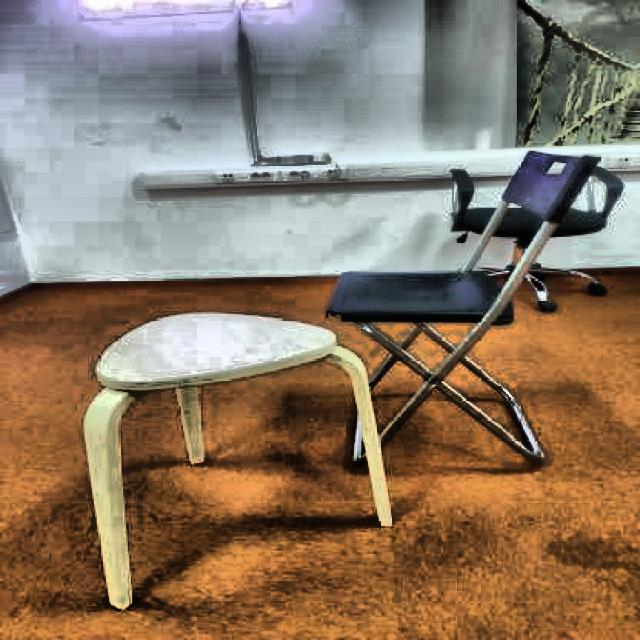cadeira: (322, 146, 603, 472)
